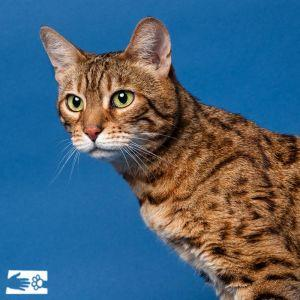bengal: (29, 11, 189, 177)
